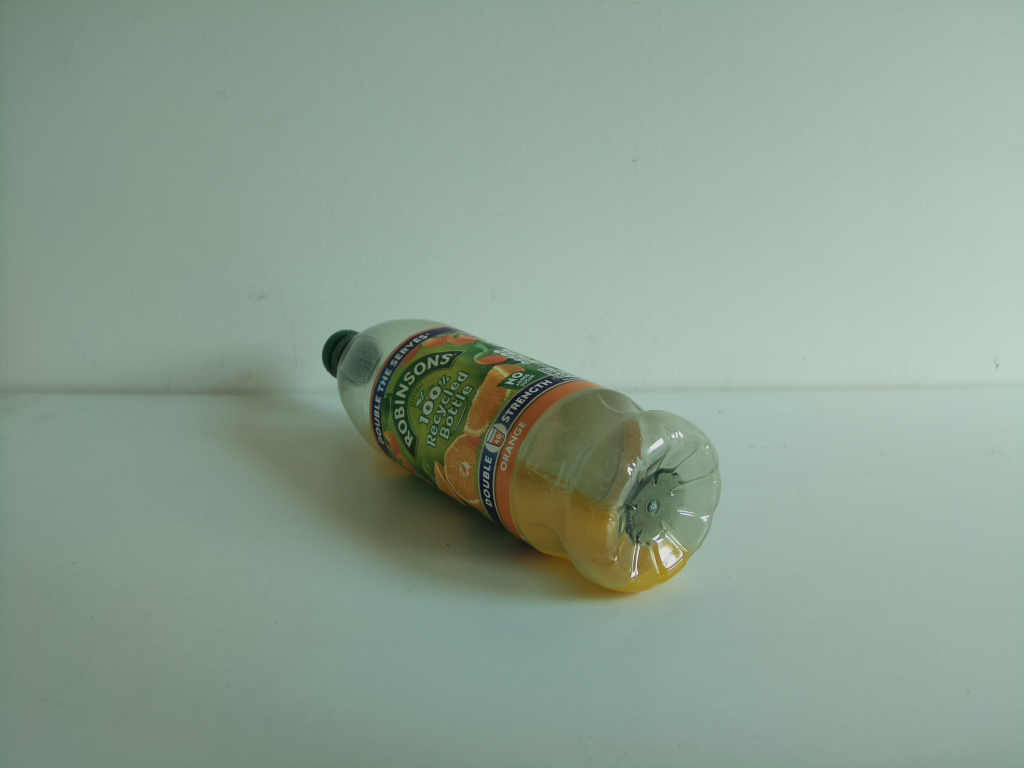juice: (324, 317, 719, 598)
